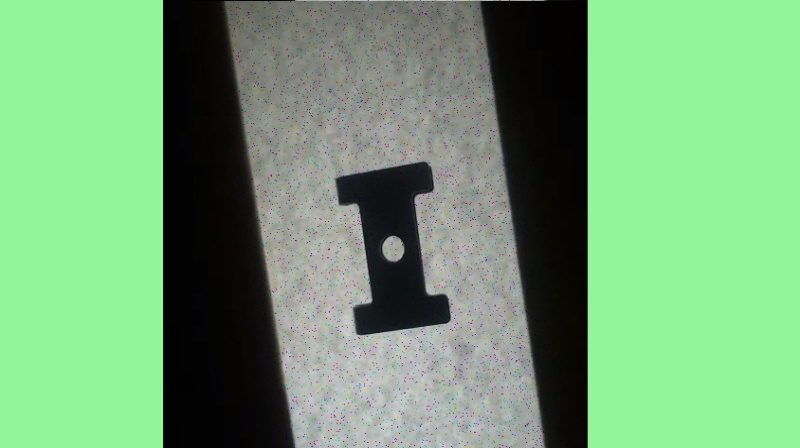O002: (333, 158, 452, 337)
